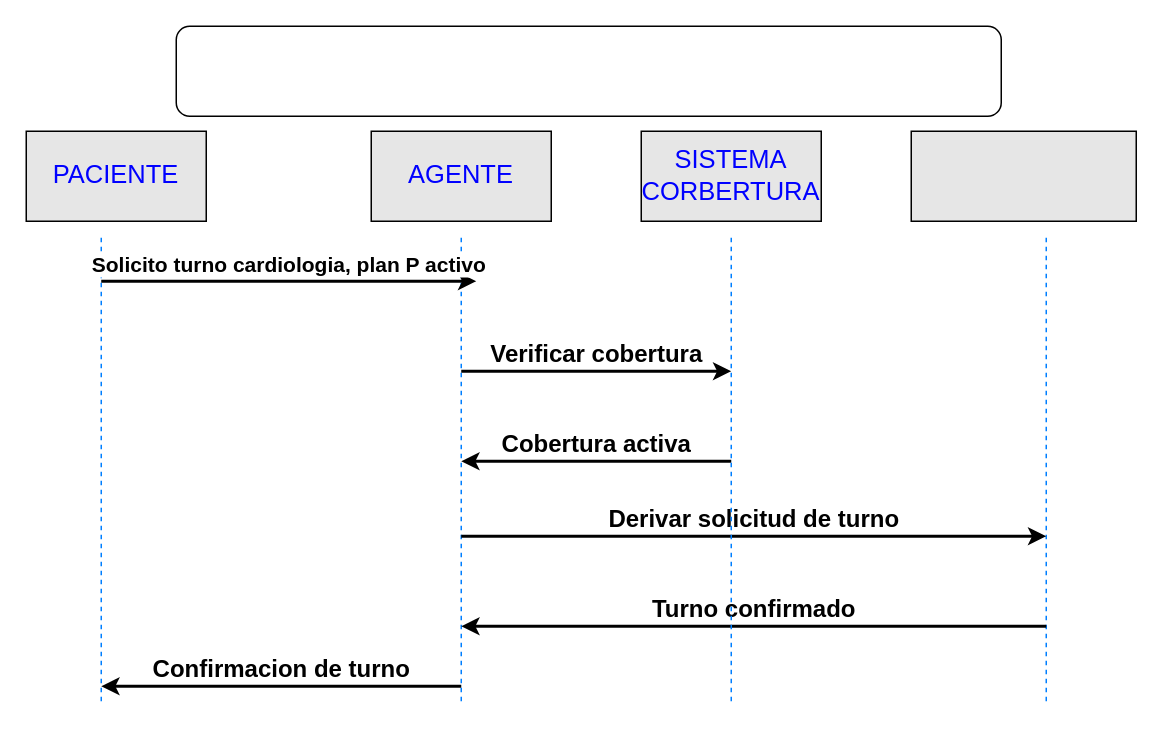
Some shapes in this 1163 by 729 pixel diagram are drawn without their labels. The shapes that lost their labels are listed below. From the top down, each one's centre as x and y in pixels, then its label:
At (x=588, y=70): "DIAGRAMA DE SECUENCIA - SOLICITUD DE TURNO ALTERNATIVA".
At (x=1023, y=175): "HOSPITAL".
